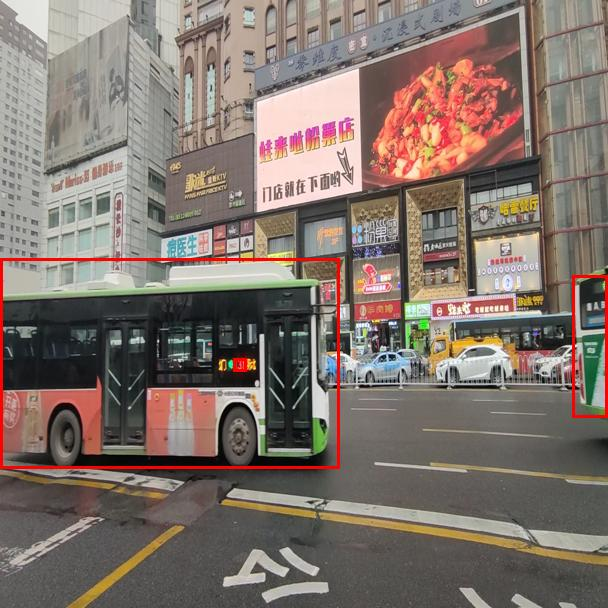bus: (0, 258, 339, 468), (572, 275, 607, 417)
screen: (233, 358, 246, 371)
